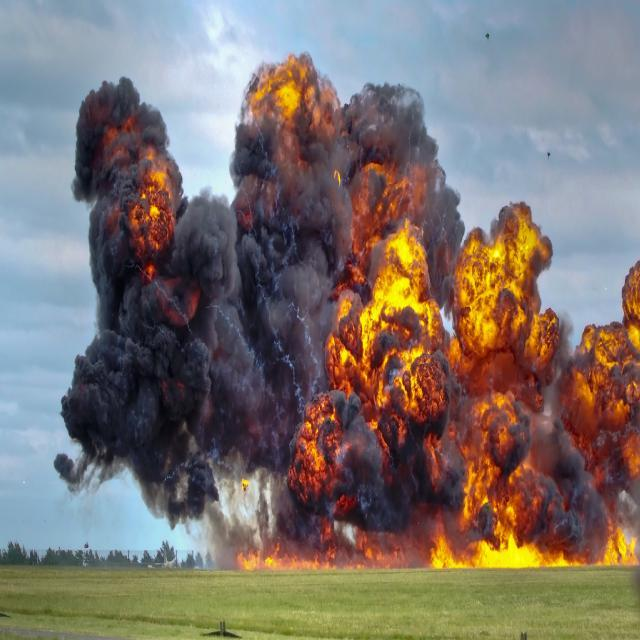Fire: (454, 465, 604, 567), (362, 255, 435, 413), (465, 235, 546, 336), (259, 62, 336, 138), (298, 391, 334, 498), (126, 172, 172, 248)
